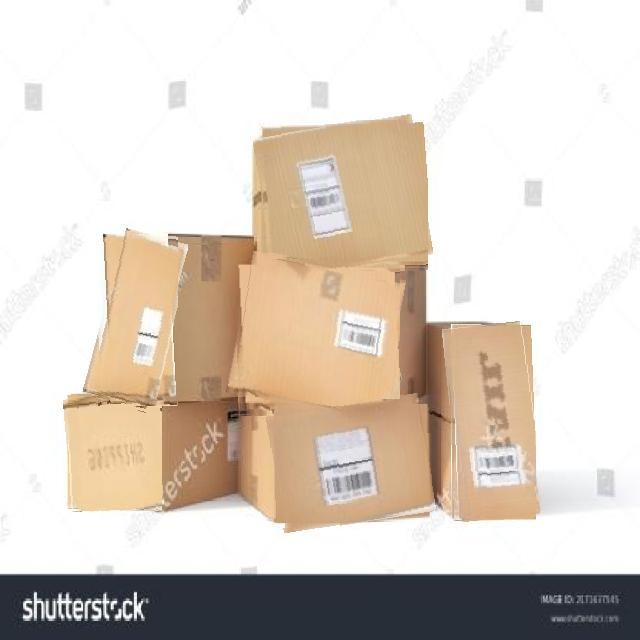BoxFace: (232, 258, 400, 416), (257, 120, 428, 274), (270, 398, 432, 528), (447, 323, 536, 520), (93, 231, 178, 406), (66, 394, 162, 511)
